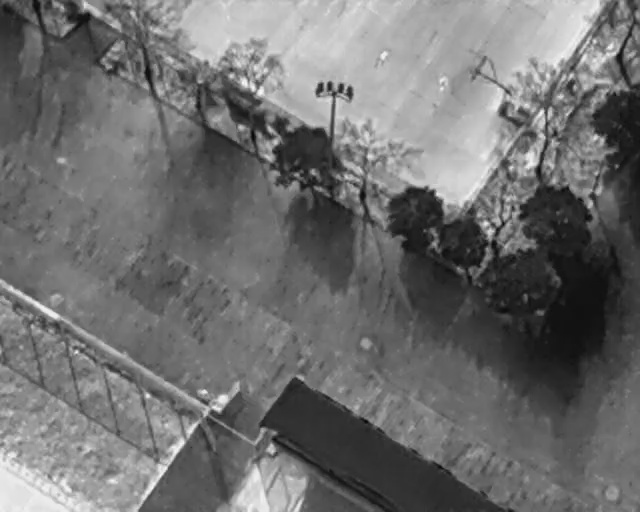Person: (377, 46, 391, 69), (437, 70, 450, 92)
